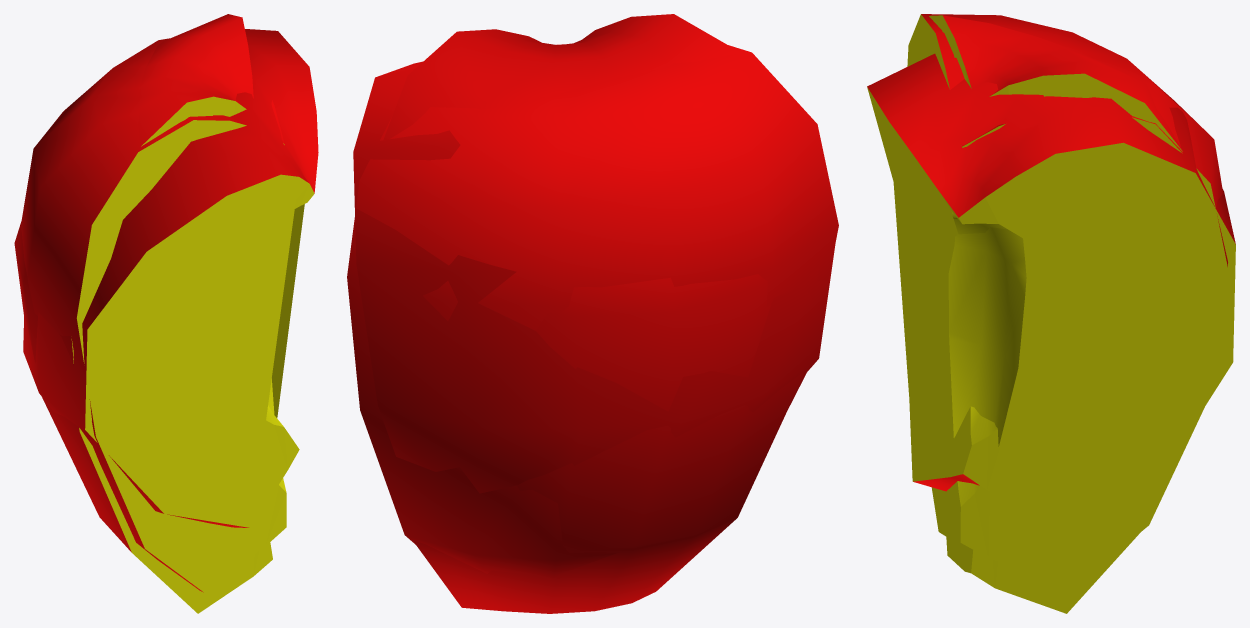
File: apples_slices_mesh_grp.fbx
3 renders of one model, left to right at view 1: azimuth 30°, elevation 25°; view 2: azimuth 150°, elevation 25°; view 3: azimuth 270°, elevation 25°, orthographic. The views are drawn at different scales.
Visible parts, largest first — view 1: apple_slice_2_mesh, apple_slice_1_mesh, apple_slice_3_mesh; view 2: apple_slice_1_mesh, apple_slice_3_mesh, apple_slice_2_mesh; view 3: apple_slice_2_mesh, apple_slice_1_mesh, apple_slice_3_mesh.
Boxes of the visible parts, bbox=[...] form: apple_slice_2_mesh: bbox=[23, 29, 318, 527]; apple_slice_1_mesh: bbox=[21, 38, 286, 592]; apple_slice_3_mesh: bbox=[14, 14, 272, 613]; apple_slice_1_mesh: bbox=[347, 45, 838, 580]; apple_slice_3_mesh: bbox=[383, 14, 819, 613]; apple_slice_2_mesh: bbox=[353, 44, 835, 493]; apple_slice_2_mesh: bbox=[867, 53, 1235, 527]; apple_slice_1_mesh: bbox=[907, 14, 1227, 585]; apple_slice_3_mesh: bbox=[929, 15, 1182, 613].
Size of the model in its own units: 6.54 by 10.6 by 6.59.
